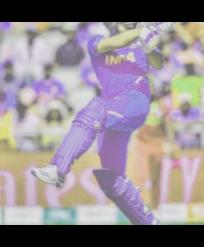batsman: (12, 21, 204, 225)
